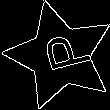P_W: (30, 31, 90, 80)
